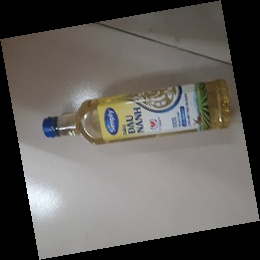Simply: (41, 77, 232, 148)
